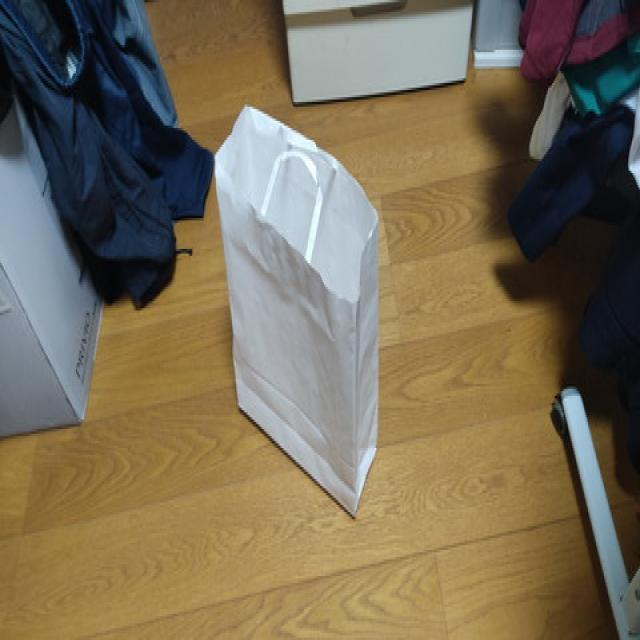paper bag: (210, 97, 384, 523)
